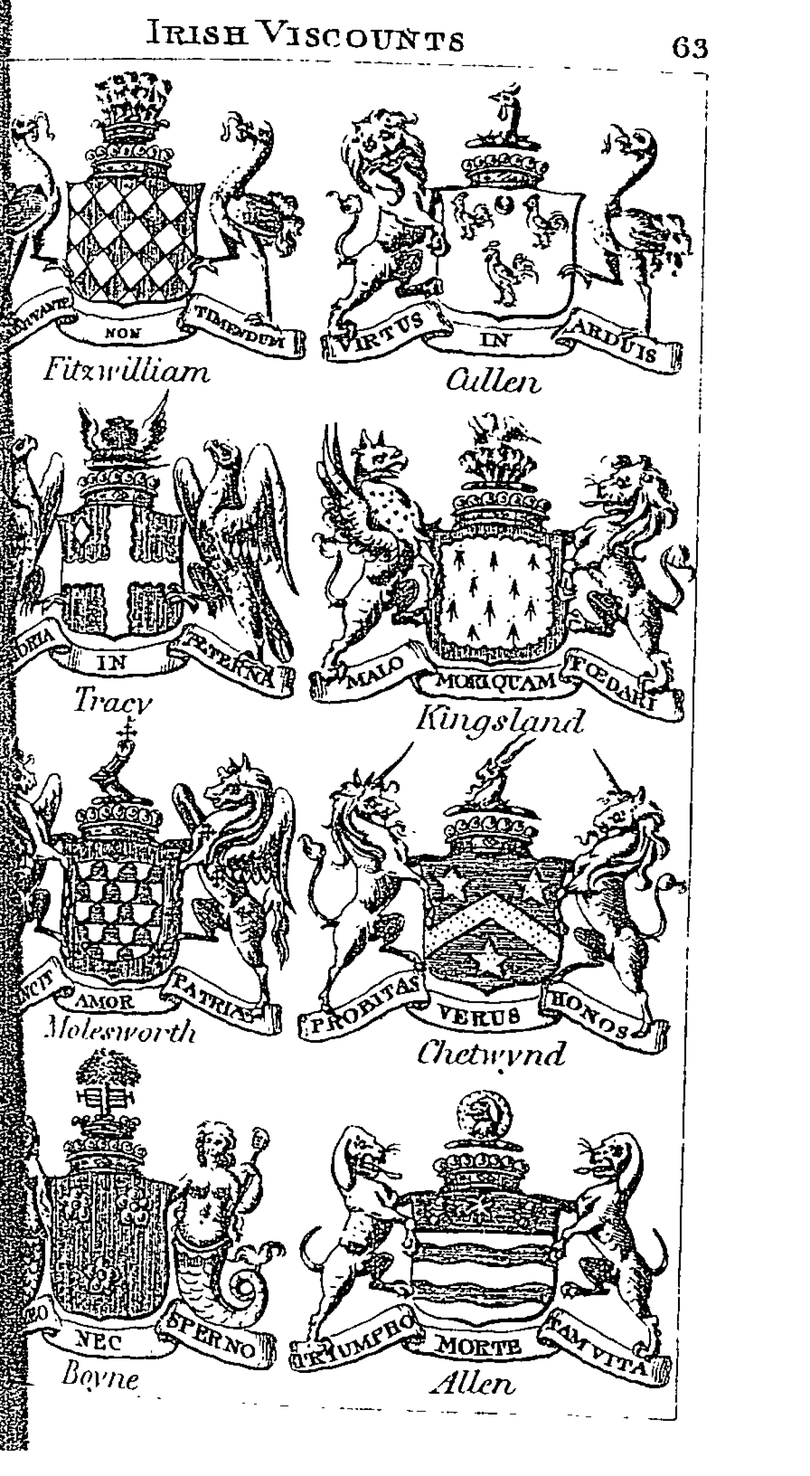coat_of_arms: (300, 1075, 677, 1414), (306, 746, 689, 1073), (311, 412, 690, 739), (325, 78, 691, 394), (2, 60, 312, 399), (3, 1045, 284, 1397), (10, 406, 303, 728), (12, 726, 293, 1056)
